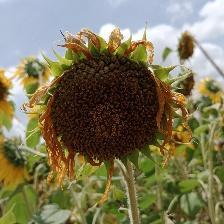sunflower: (23, 20, 195, 189), (1, 131, 29, 186), (24, 55, 52, 86), (175, 26, 198, 63), (174, 66, 197, 101), (200, 76, 224, 106), (1, 70, 14, 114)
